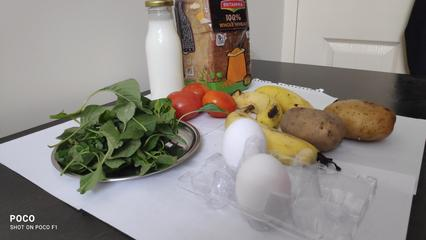banana: (232, 89, 283, 125)
bread: (174, 0, 256, 84)
eggs: (220, 122, 340, 227)
milk: (142, 2, 188, 93)
potato: (284, 102, 398, 151)
spinach: (81, 100, 173, 168)
tomato: (171, 85, 228, 116)
